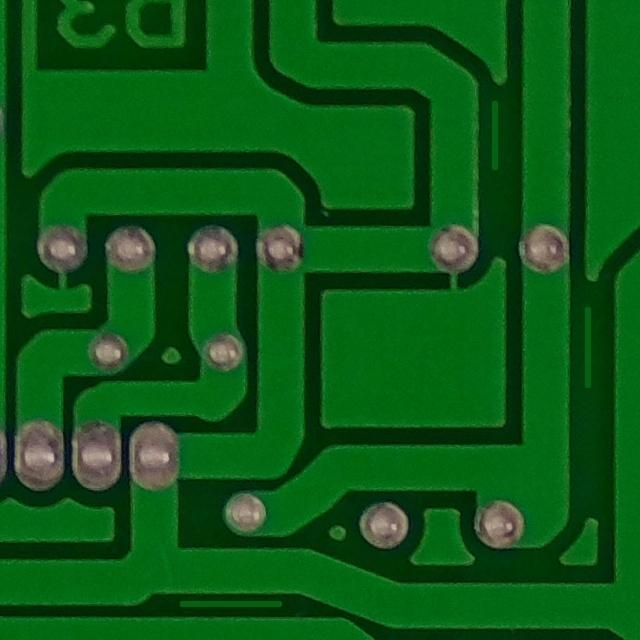spurious_copper: (569, 292, 619, 397), (170, 589, 292, 623), (483, 86, 513, 177)
